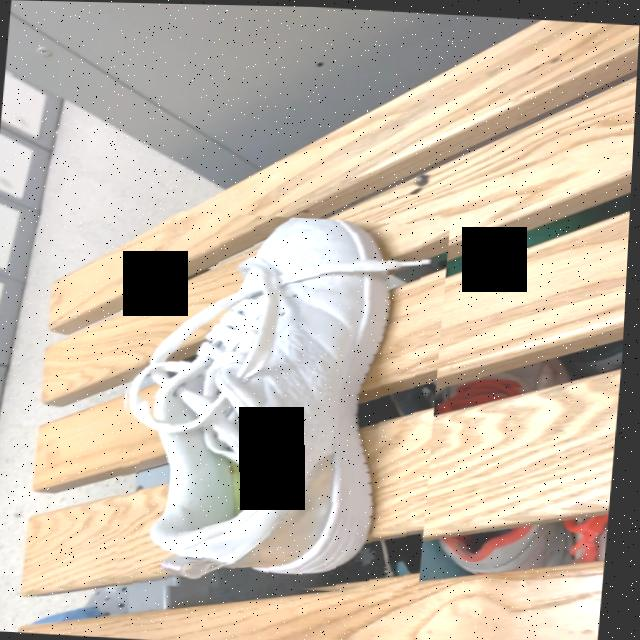shoe: (129, 216, 449, 588)
